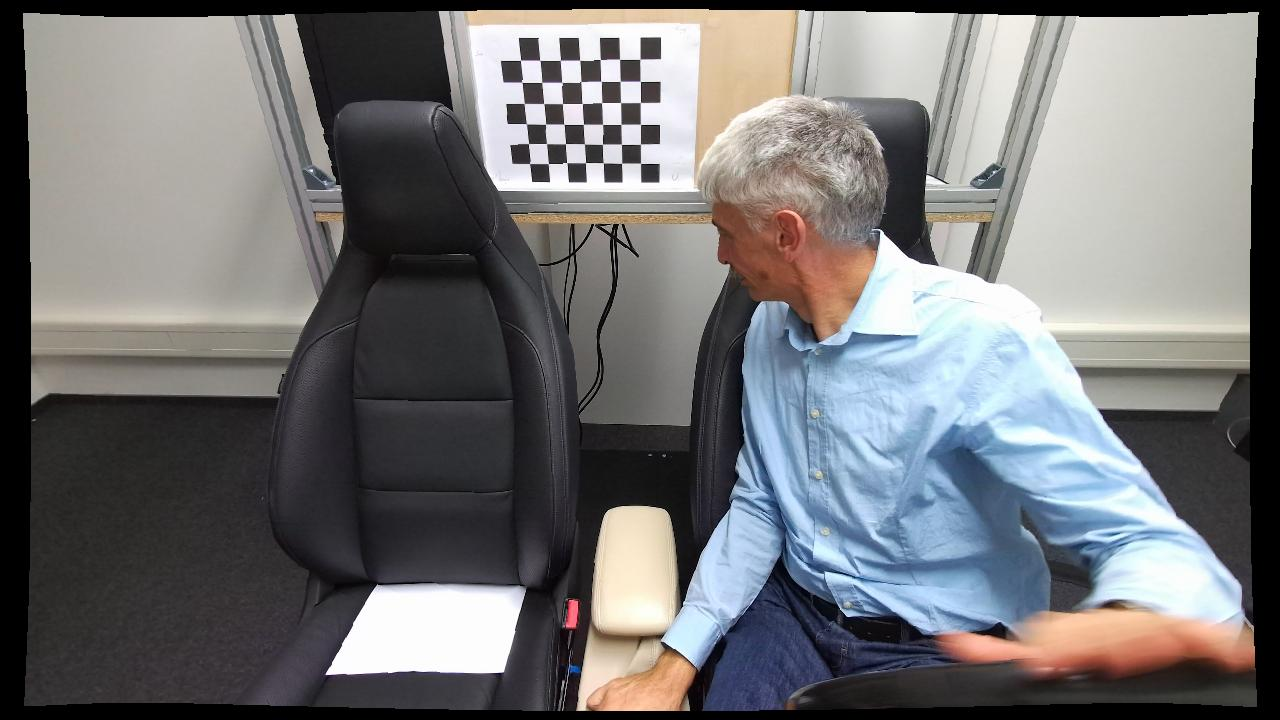Distracted: (683, 85, 1056, 704)
